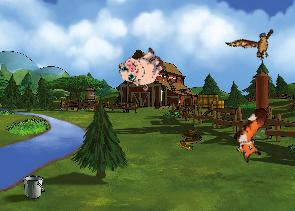eagle: (225, 16, 284, 72)
fox: (224, 104, 284, 166)
pig: (114, 40, 170, 96)
